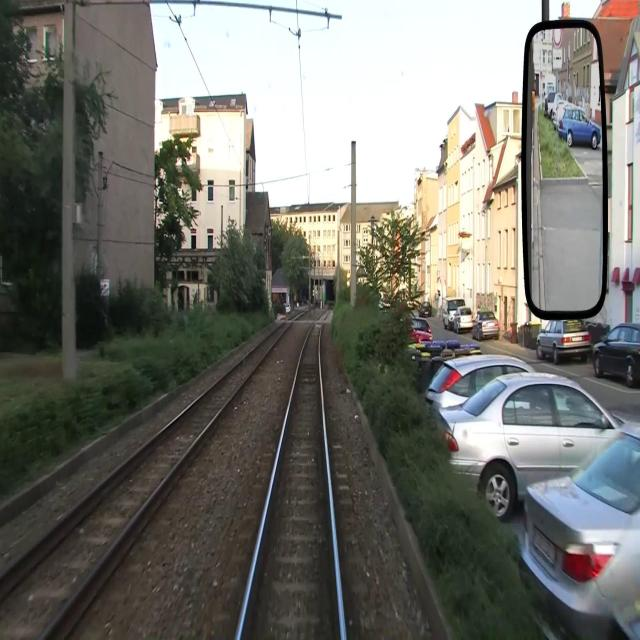rail-track: (239, 309, 341, 639)
